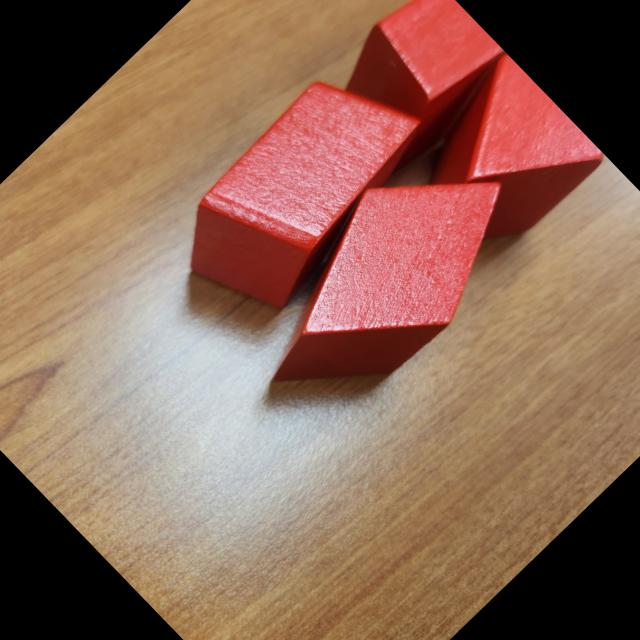red: (222, 113, 552, 440), (156, 46, 449, 336), (402, 53, 608, 259), (304, 0, 519, 185)
